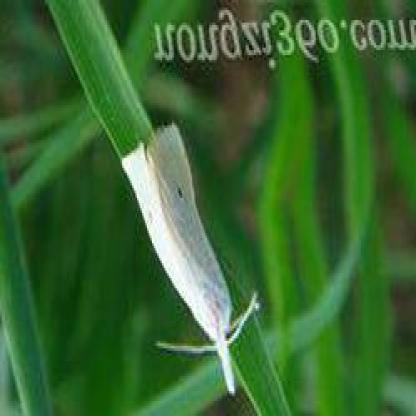stem-borer: (116, 116, 260, 404)
